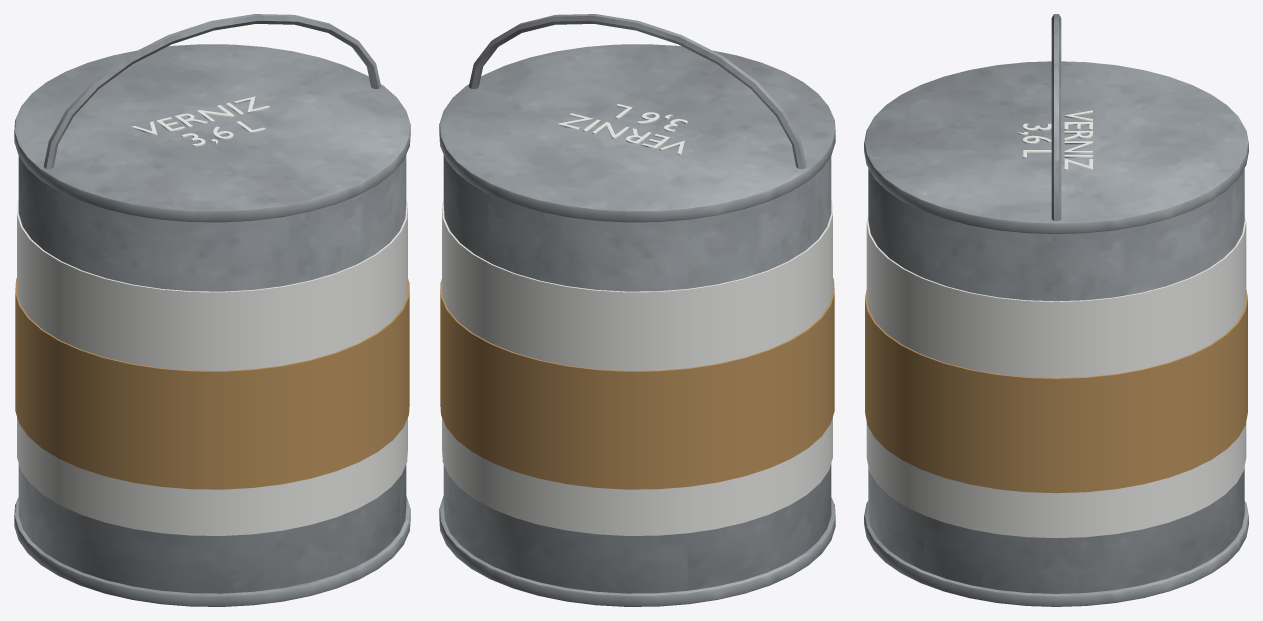
The model's file is PIN-TIN-005.glb.
The picture shows the model from 3 angles, left to right: view 1: azimuth 30°, elevation 25°; view 2: azimuth 150°, elevation 25°; view 3: azimuth 270°, elevation 25°; orthographic projection. The views are drawn at different scales.
Visible parts, largest first — view 1: PIN-TIN-005_aro, PIN-TIN-005_rotulo, PIN-TIN-005_lata, PIN-TIN-005_amostra, PIN-TIN-005_aro2, PIN-TIN-005_alca, PIN-TIN-005_texto; view 2: PIN-TIN-005_aro, PIN-TIN-005_rotulo, PIN-TIN-005_lata, PIN-TIN-005_amostra, PIN-TIN-005_aro2, PIN-TIN-005_alca, PIN-TIN-005_texto; view 3: PIN-TIN-005_aro, PIN-TIN-005_rotulo, PIN-TIN-005_lata, PIN-TIN-005_amostra, PIN-TIN-005_aro2, PIN-TIN-005_alca, PIN-TIN-005_texto.
Boxes of the visible parts, box(x1,y1,x2,y2) form: PIN-TIN-005_aro: box(14, 44, 410, 222); PIN-TIN-005_rotulo: box(17, 200, 407, 535); PIN-TIN-005_lata: box(18, 155, 406, 593); PIN-TIN-005_amostra: box(15, 278, 409, 489); PIN-TIN-005_aro2: box(14, 496, 410, 606); PIN-TIN-005_alca: box(43, 14, 381, 168); PIN-TIN-005_texto: box(131, 96, 270, 146); PIN-TIN-005_aro: box(439, 44, 835, 222); PIN-TIN-005_rotulo: box(442, 200, 832, 535); PIN-TIN-005_lata: box(443, 155, 831, 593); PIN-TIN-005_amostra: box(440, 278, 834, 489); PIN-TIN-005_aro2: box(439, 496, 835, 606); PIN-TIN-005_alca: box(468, 14, 806, 168); PIN-TIN-005_texto: box(556, 104, 688, 155); PIN-TIN-005_aro: box(864, 61, 1248, 233); PIN-TIN-005_rotulo: box(866, 214, 1246, 538); PIN-TIN-005_lata: box(868, 168, 1244, 593); PIN-TIN-005_amostra: box(865, 290, 1247, 493); PIN-TIN-005_aro2: box(864, 501, 1248, 606); PIN-TIN-005_alca: box(1051, 14, 1061, 220); PIN-TIN-005_texto: box(1018, 110, 1092, 170).
Size of the model in its own units: 0.174 by 0.2429 by 0.174.
Materials: 4 (1 with a texture image).
